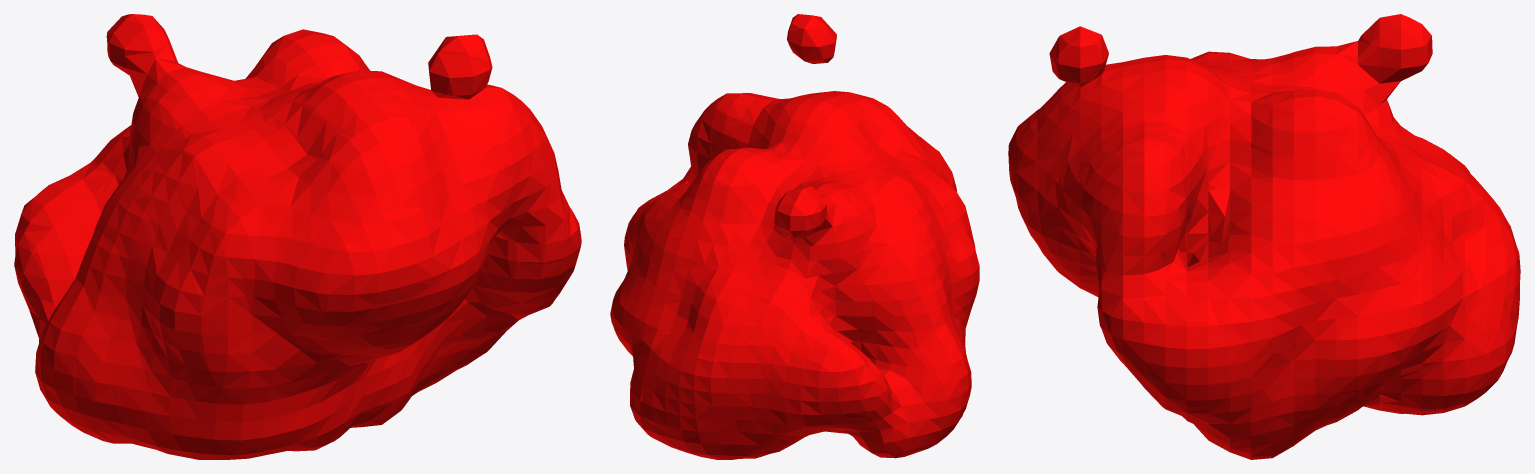
The model's file is gloA_coarse.dae.
3 views of the same model, side by side, from view 1: azimuth 30°, elevation 25°; view 2: azimuth 150°, elevation 25°; view 3: azimuth 270°, elevation 25° (orthographic). The views are drawn at different scales.
Parts seen in each view (by area): view 1: gloA; view 2: gloA; view 3: gloA.
Part boxes in pixels (x1,y1,x2,y2): gloA: (14,14,581,459); gloA: (610,14,979,459); gloA: (1008,14,1520,459).
Size of the model in its own units: 55.4 by 48.36 by 54.56.
